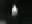person: (12, 4, 20, 17)
